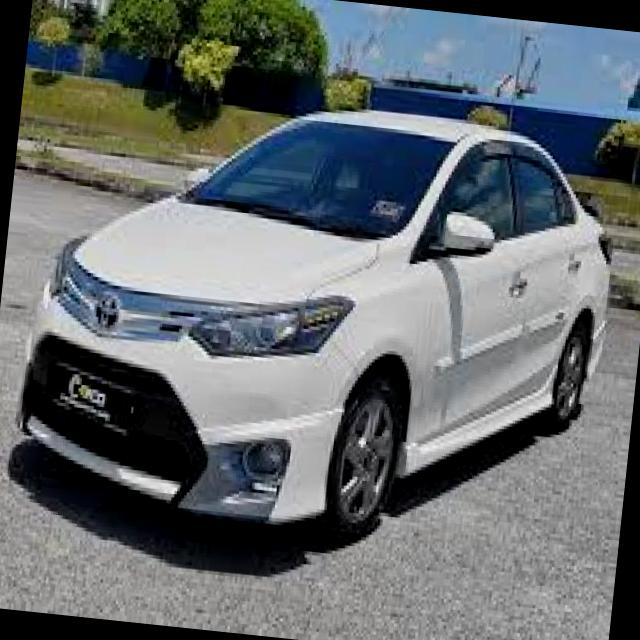ToyotaVios: (6, 70, 627, 566)
